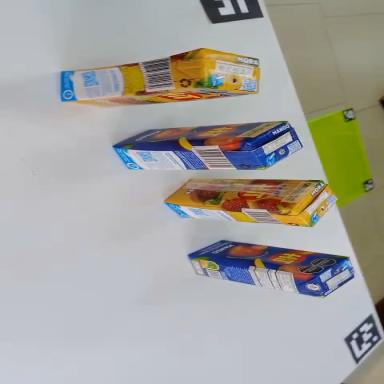HIT-MANGO: (185, 235, 356, 301), (113, 120, 302, 174)
HIT-MORA: (57, 44, 262, 111), (164, 173, 338, 228)
cara_F: (188, 235, 350, 280), (66, 82, 256, 112), (162, 178, 322, 212), (112, 121, 287, 146)
